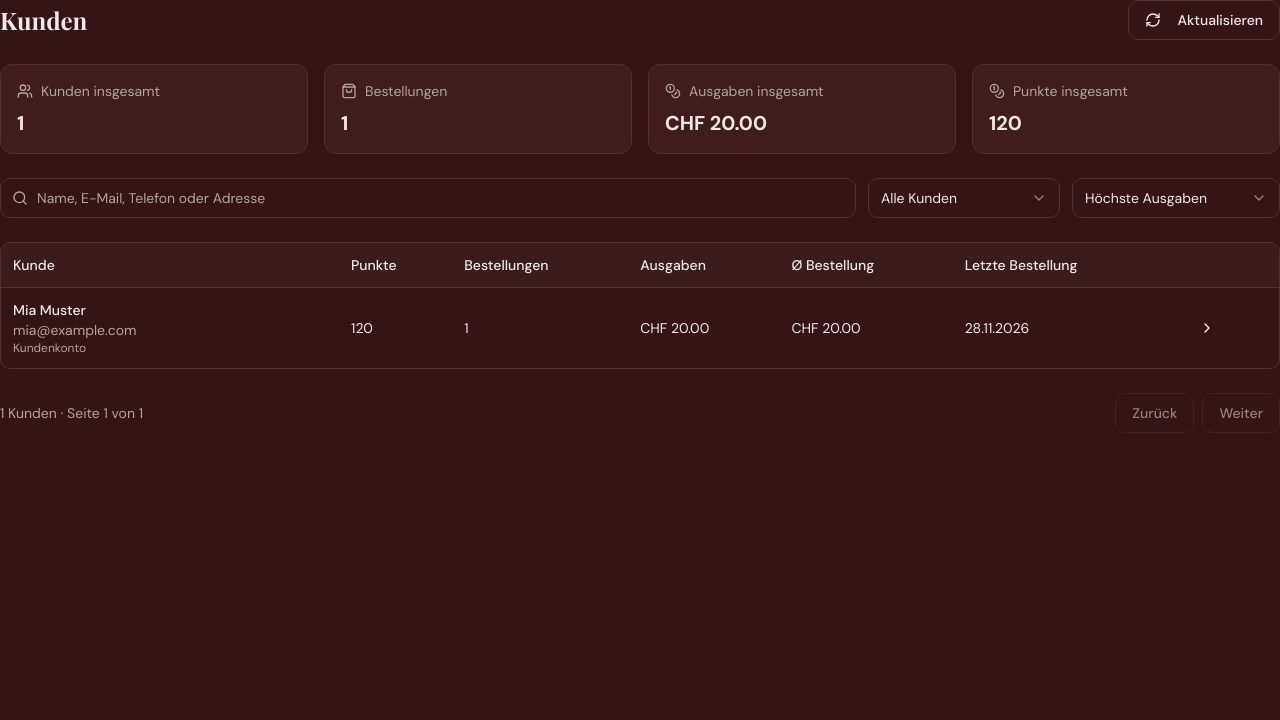
Test case: Admin-Kundenübersicht › Zeigt Punkte, Ausgaben und Bestellverlauf eines Kunden und lässt nach seinem Namen suchen
Expected: the text "120" is shown, top-left (339, 288), bottom-right (452, 368)
Expected: the text "CHF 20.00" is shown 2 times, top-left (628, 288), bottom-right (780, 368); top-left (780, 288), bottom-right (953, 368)
Click the button named "Details für Mia Muster". click: (1207, 328)
box: top-left (1187, 308), bottom-right (1227, 348)
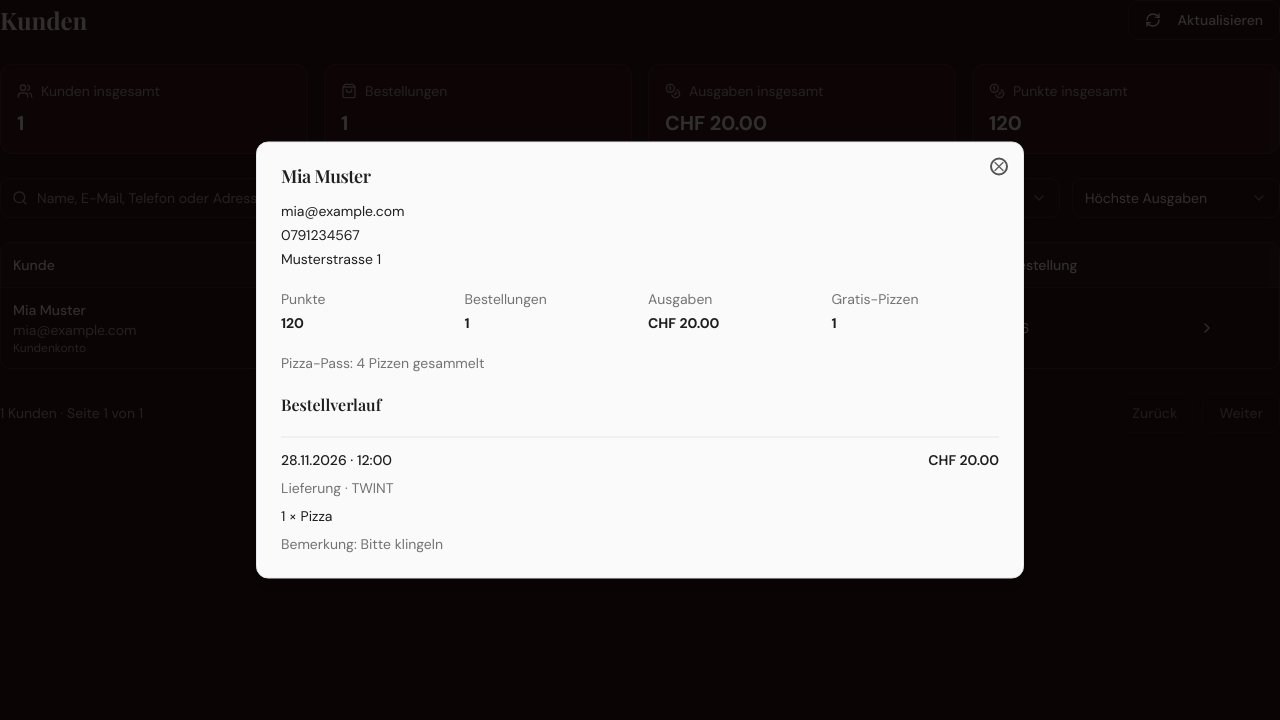
Now the text "Bemerkung: Bitte klingeln" is shown, box top-left (281, 534), bottom-right (443, 552)
Now the text "Lieferung · TWINT" is shown, box top-left (281, 478), bottom-right (394, 496)
